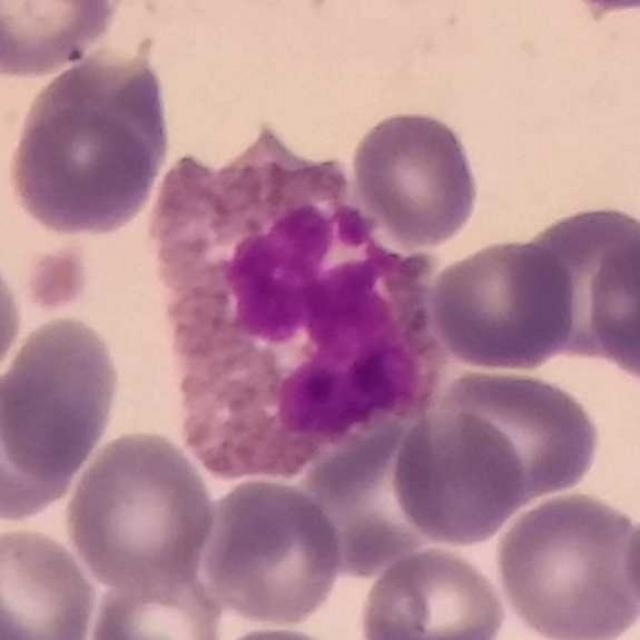Eosinophil: (143, 133, 445, 487)
RBC: (2, 50, 173, 242), (60, 427, 219, 596), (430, 363, 603, 507), (198, 474, 346, 629), (507, 198, 640, 370), (492, 488, 640, 640), (0, 312, 125, 488), (425, 235, 581, 374), (300, 434, 442, 576), (347, 104, 484, 250), (388, 406, 526, 549), (355, 543, 510, 640), (0, 375, 83, 527), (0, 521, 101, 640), (84, 567, 228, 640), (0, 0, 124, 80), (583, 222, 640, 390), (0, 240, 26, 402), (200, 622, 360, 640), (619, 495, 640, 629), (561, 0, 639, 20)
